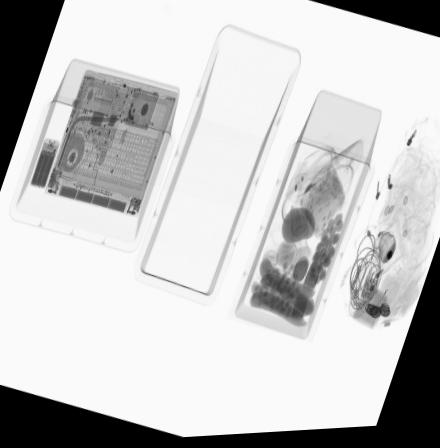Powerbank: (27, 136, 60, 189)
